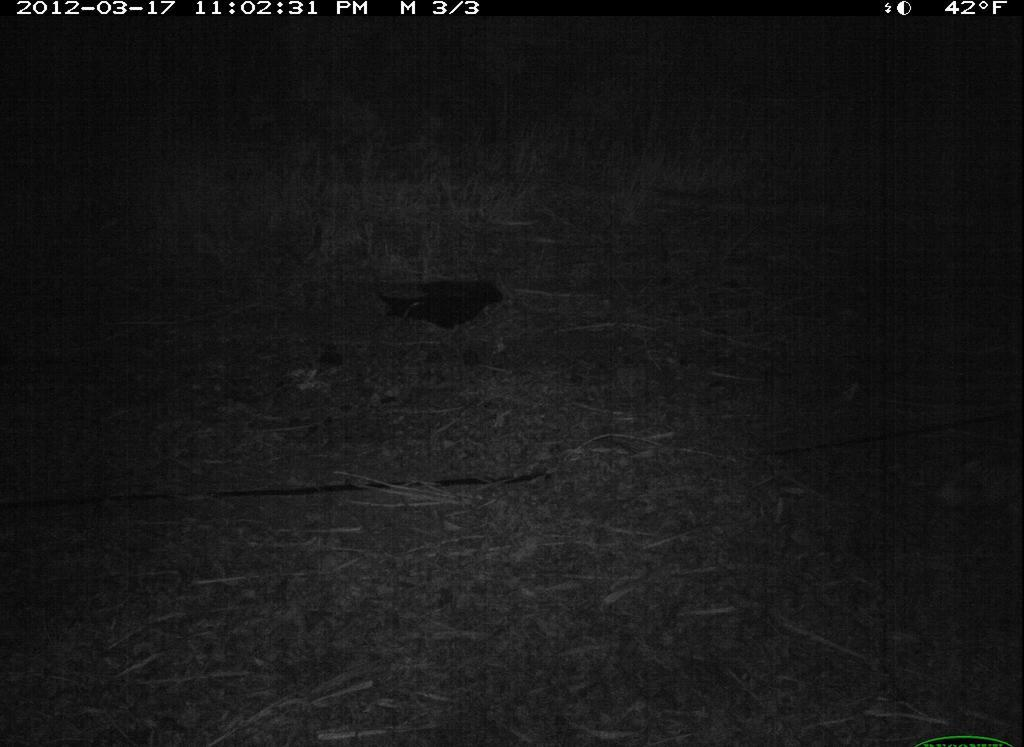opossum: (926, 443, 1023, 520)
